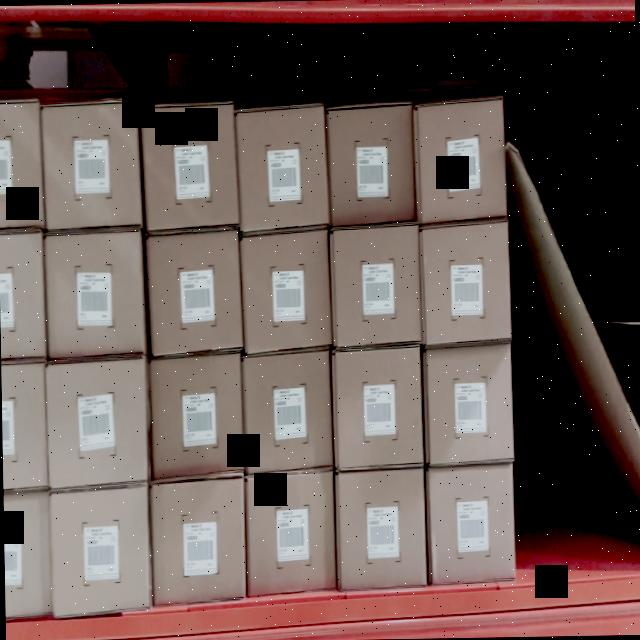box: (48, 360, 146, 486), (44, 234, 144, 351), (141, 111, 235, 229), (50, 496, 147, 610), (44, 110, 138, 223), (146, 238, 238, 350), (336, 351, 423, 466), (246, 475, 334, 588), (151, 359, 239, 472), (153, 485, 244, 594), (333, 228, 418, 344), (240, 112, 326, 226), (422, 104, 504, 220), (329, 109, 413, 222), (242, 358, 328, 467), (429, 348, 512, 460), (342, 475, 426, 584), (242, 240, 326, 348), (428, 230, 508, 340), (431, 474, 514, 580)
